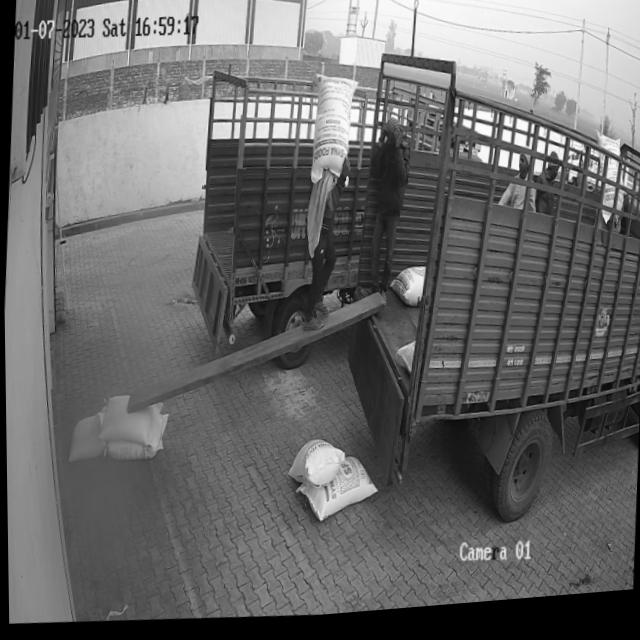sack: (291, 455, 378, 531), (308, 76, 358, 192), (96, 392, 162, 454), (102, 412, 167, 465), (286, 440, 343, 496), (64, 410, 106, 466)
